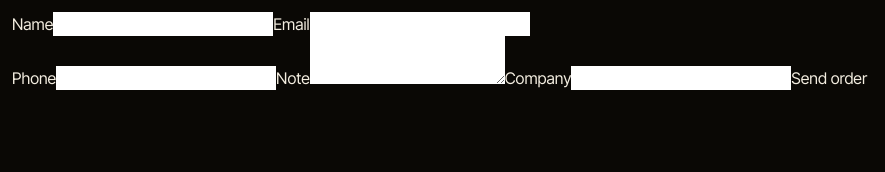
OrderRequestForm, no online payment › shows the shop’s reason, a plain error, or no connection
Type "Pat" into the field labelled "Name". click: (163, 24)
box: [53,12,273,36]
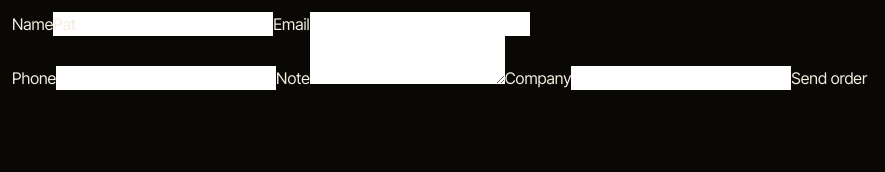
Type "pat@example.com" into the field labelled "Email". click: (420, 24)
box: [310,12,530,36]
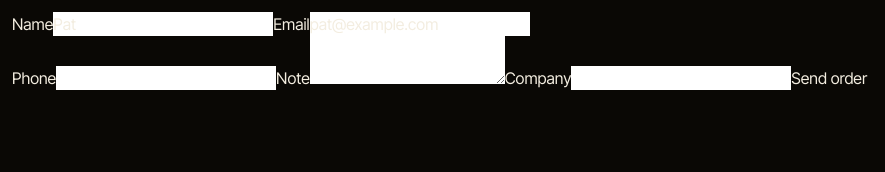
Click the button "Send order". click: (829, 78)
box: [791,66,867,90]
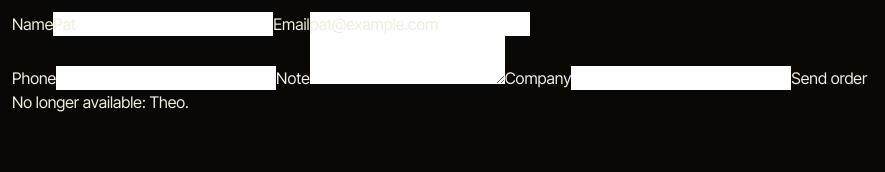
Expected: the text "No longer available: Theo." is shown, [12,92,189,112]
Click the button "Send order". click: (829, 78)
box: [791,66,867,90]
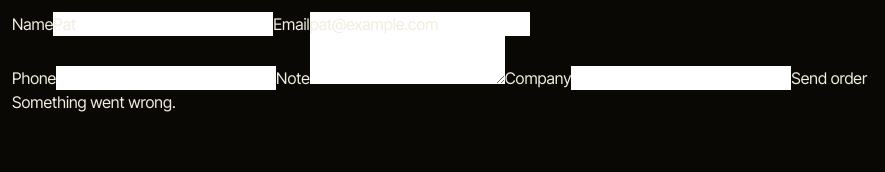
Expected: the text "Something went wrong." is shown, [12,92,176,112]
Click the button "Send order". click: (829, 78)
box: [791,66,867,90]
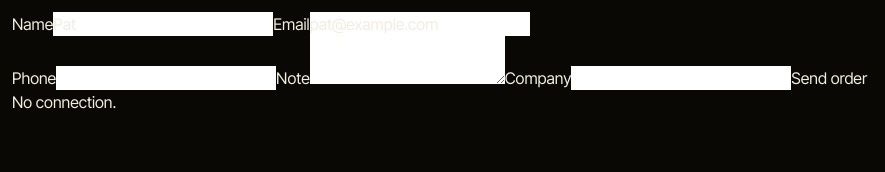
Expected: the text "No connection." is shown, [12,92,116,112]
